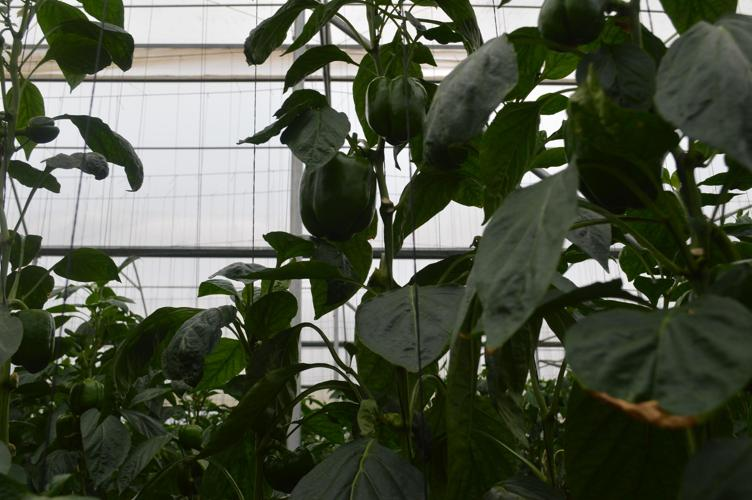BellPepper: (289, 142, 378, 240), (360, 70, 436, 146)
